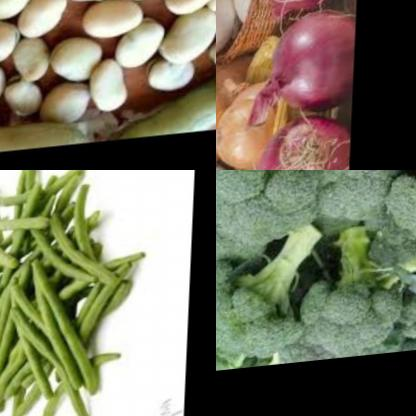beans: (0, 170, 154, 416), (0, 0, 216, 133), (87, 35, 216, 149), (0, 107, 97, 167)
broccoli: (216, 170, 416, 375)
onion: (259, 13, 356, 123), (216, 87, 285, 170), (255, 118, 352, 170), (253, 0, 326, 28), (219, 0, 270, 30)
